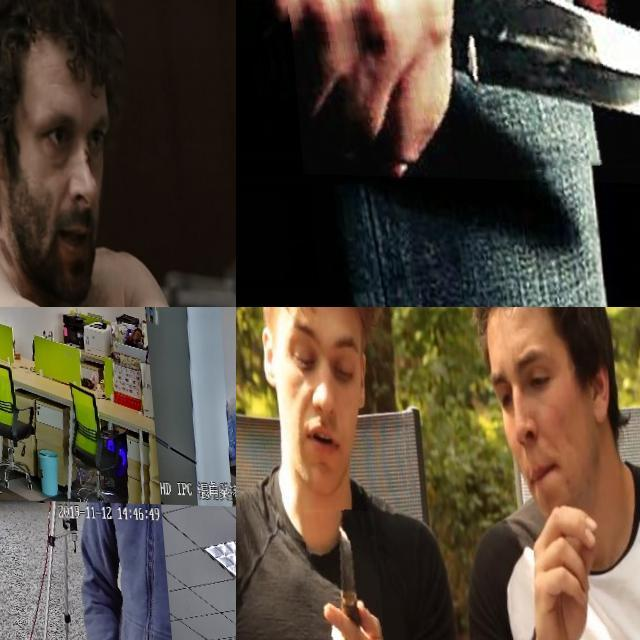-: (280, 0, 640, 184), (299, 508, 380, 640)
gun-knife-thesis - v11 Yolov5 augmented: (0, 321, 12, 390)
